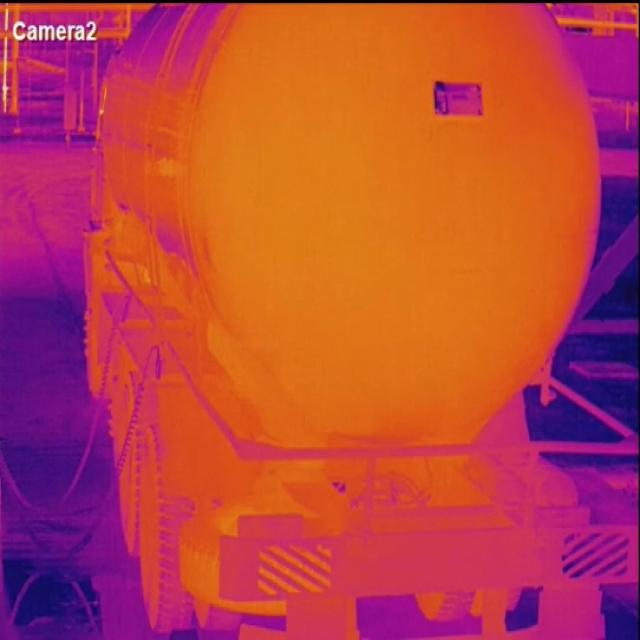tank: (190, 4, 602, 438)
